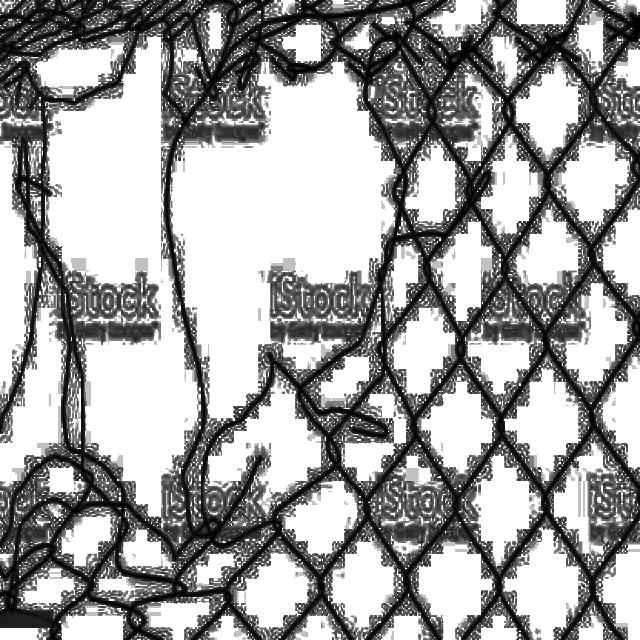anomaly-fence: (0, 0, 453, 591)
